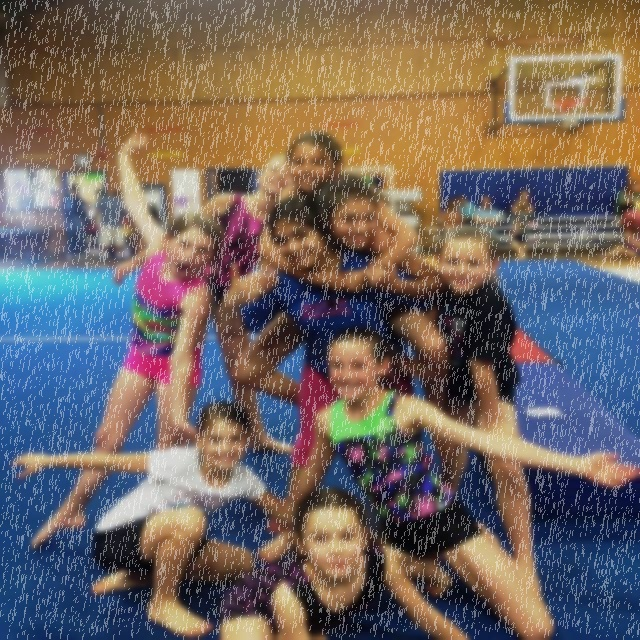pessoa: (0, 259, 321, 549), (136, 218, 471, 468), (105, 24, 514, 196), (6, 383, 418, 549), (192, 103, 497, 326), (100, 220, 369, 456), (262, 251, 508, 446), (0, 220, 178, 414), (366, 56, 463, 92), (372, 98, 452, 130), (374, 131, 434, 169), (376, 501, 444, 534), (378, 475, 448, 503), (399, 508, 454, 538), (382, 78, 445, 102), (388, 451, 448, 476), (388, 438, 443, 463), (405, 618, 442, 640)
